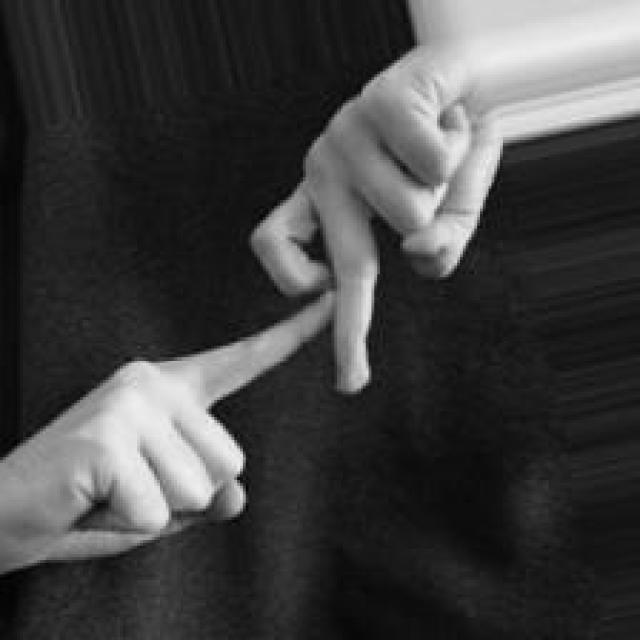R: (0, 41, 496, 570)
